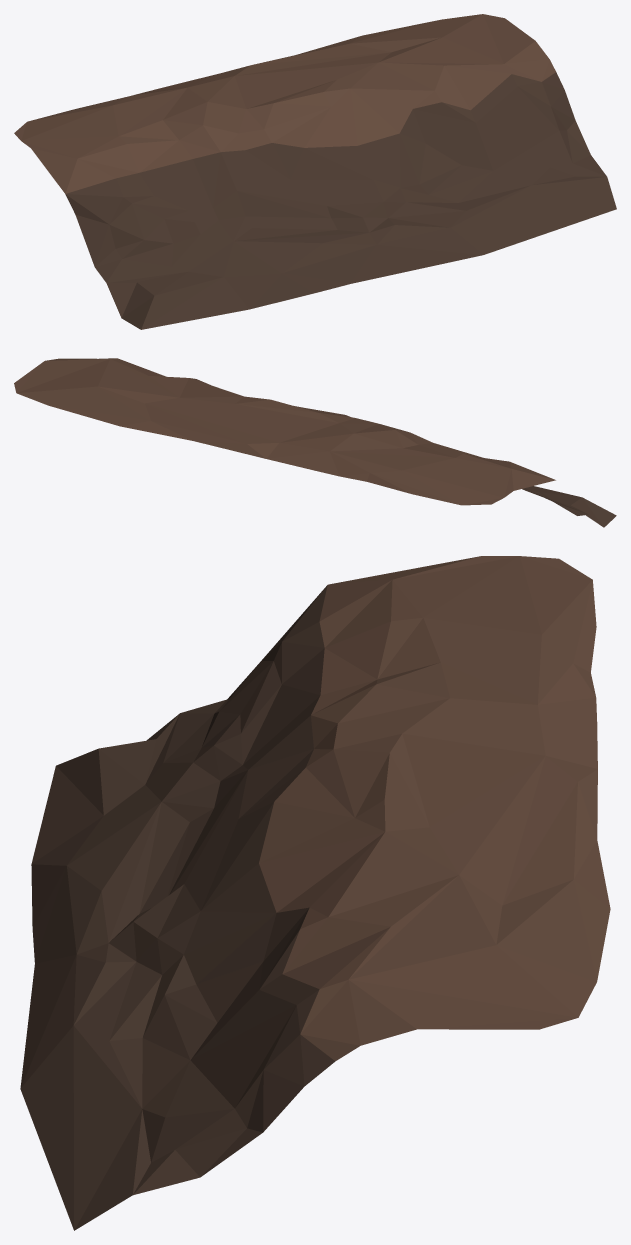
Rendered from synty-terrain-riverside-01.gltf.
3 renders of one model, top to bottom at view 1: azimuth 30°, elevation 25°; view 2: azimuth 150°, elevation 25°; view 3: azimuth 270°, elevation 25°, orthographic. The views are drawn at different scales.
Visible parts, largest first — view 1: SM_Terrain_RiverSide_01; view 2: SM_Terrain_RiverSide_01; view 3: SM_Terrain_RiverSide_01.
Boxes of the visible parts, x1,y1,x2,y2 form: SM_Terrain_RiverSide_01: (14,14,616,329); SM_Terrain_RiverSide_01: (14,358,616,527); SM_Terrain_RiverSide_01: (20,556,610,1230).
Size of the model in its own units: 8.66 by 1.93 by 4.51.
Materials: 1 (1 with a texture image).
